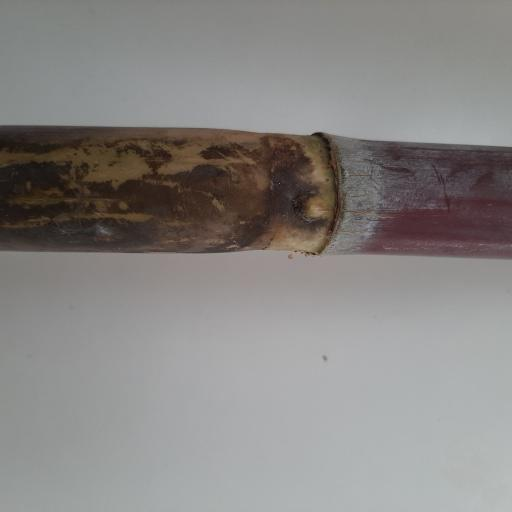Bud: (297, 194, 334, 220)
